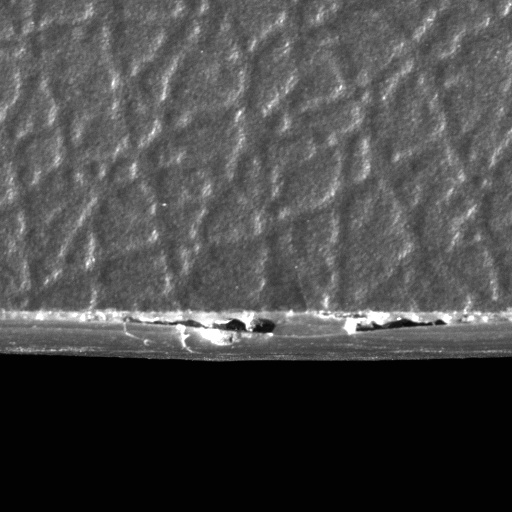kaijiao: (99, 298, 511, 367)
